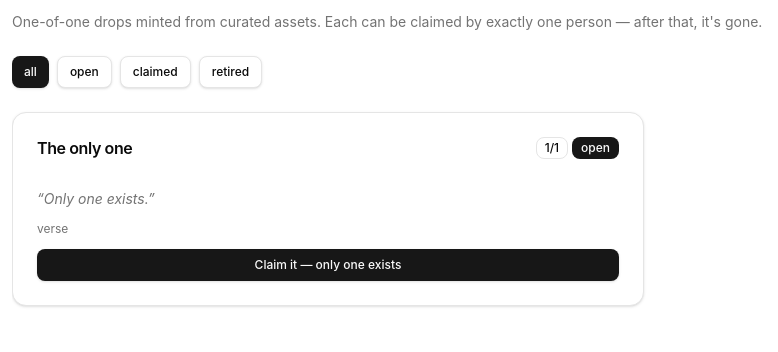
Scenario: OffersBoard claim outcomes › confirms the win even when the refetch fails, and hides the claim button
Click the button "Claim it — only one exists" at (328, 265), box [37, 249, 619, 281]
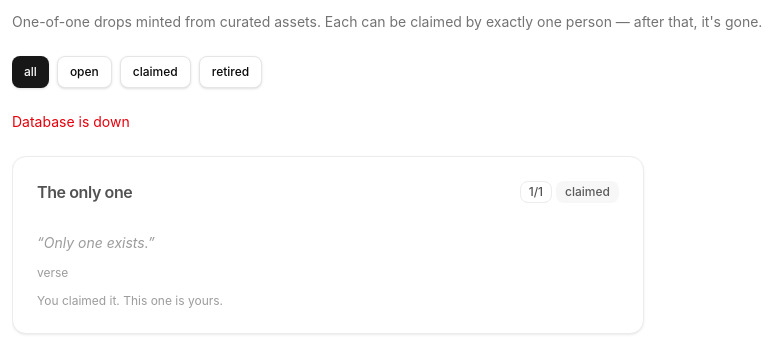
Result: the button "Claim it — only one exists" is gone
Result: the text "claimed" is shown at [556, 181, 619, 203]
